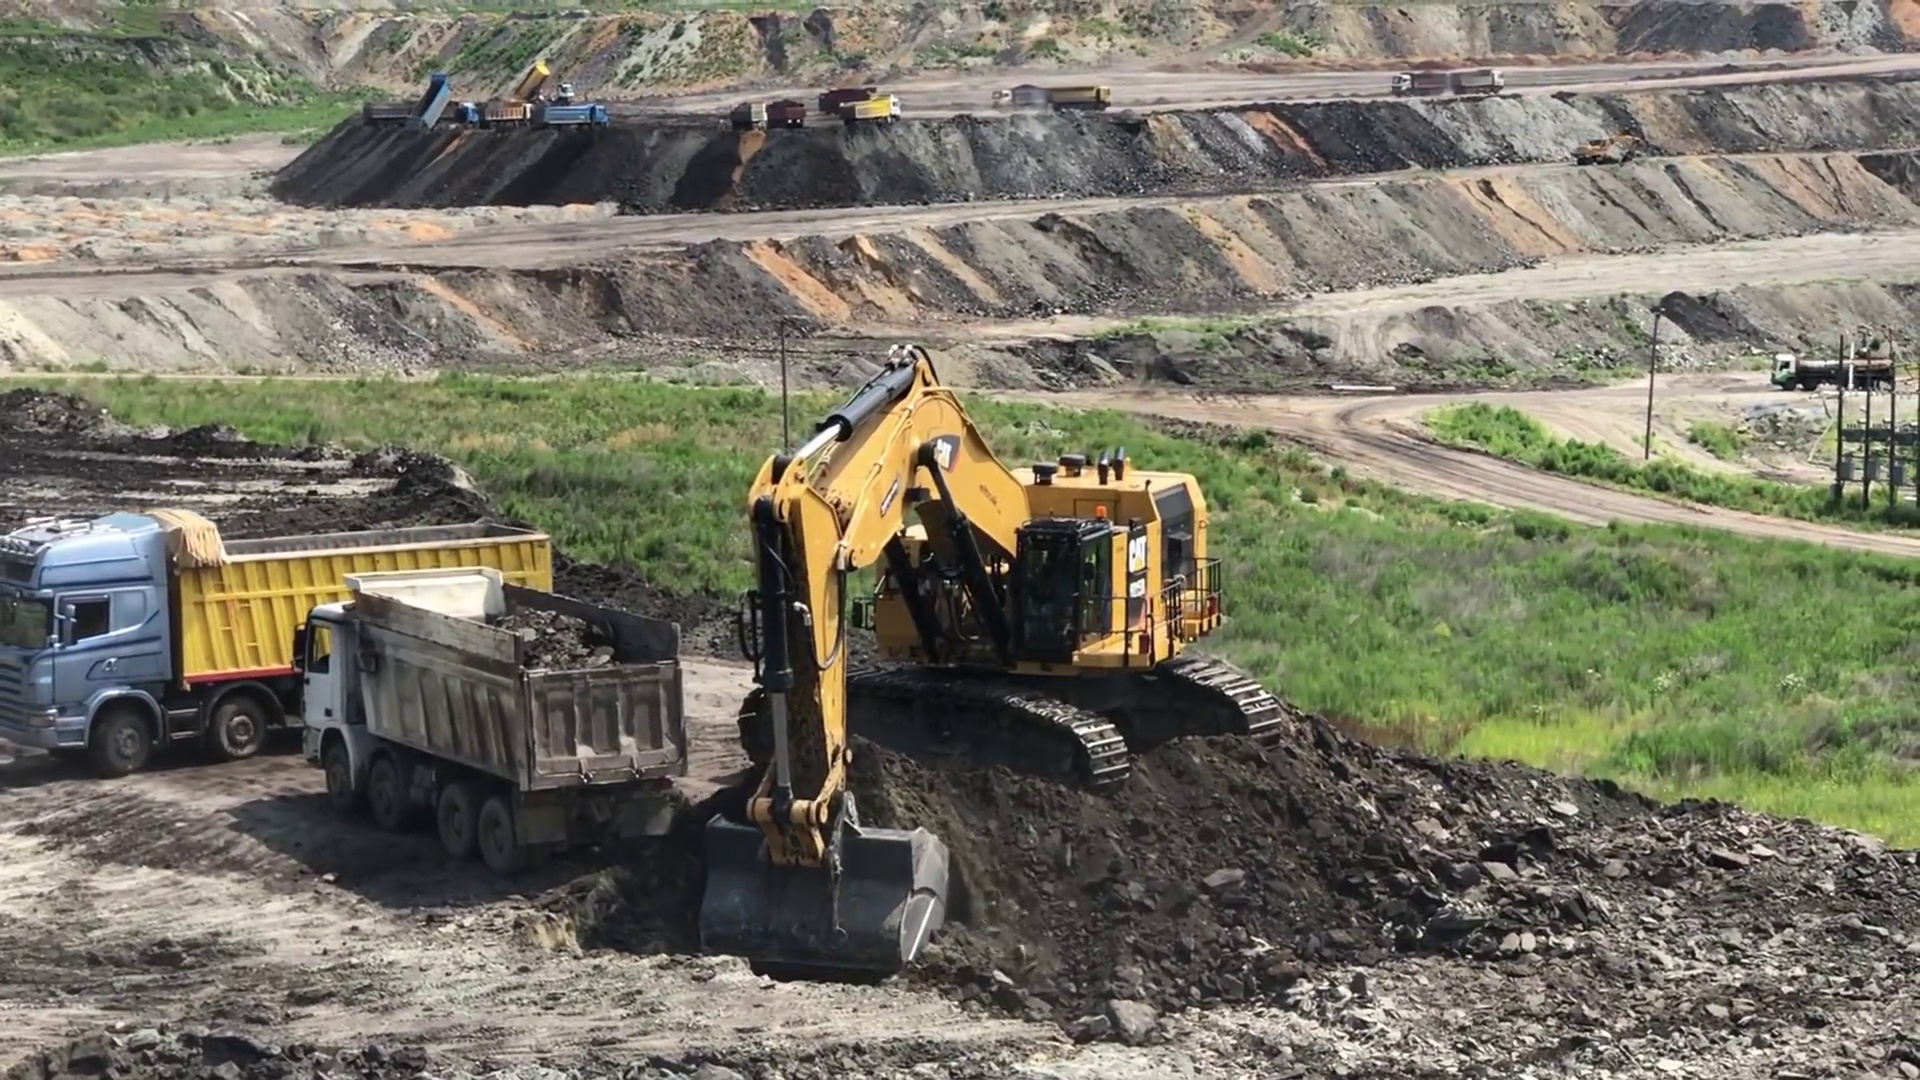excavator: (684, 330, 1296, 978)
truck: (1, 509, 549, 770), (278, 564, 694, 862), (1766, 339, 1898, 392), (518, 65, 591, 112), (407, 76, 471, 131), (1449, 65, 1509, 103), (368, 105, 452, 131), (1052, 82, 1112, 112), (1393, 69, 1444, 102), (1007, 86, 1058, 115), (553, 102, 615, 124), (847, 98, 907, 120), (496, 96, 542, 125), (825, 86, 873, 112), (762, 98, 808, 120)
